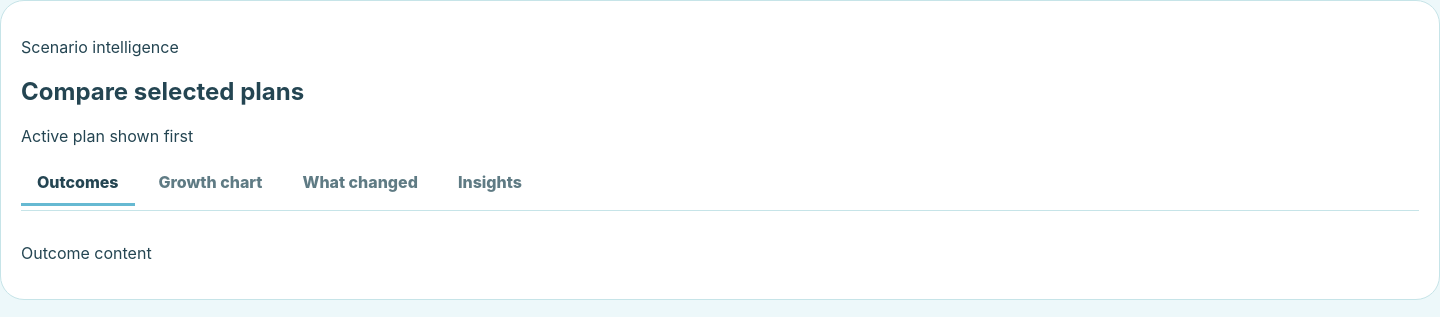
Test: ScenarioComparisonTabs › shows one comparison view at a time
The width and height of the screenshot is (1440, 317).
Expected: the text "Outcome content" is shown, top-left (21, 243), bottom-right (152, 263)
Expected: the text "Insights content" is not shown
Click the tab "Insights".
click(490, 184)  # box top-left (442, 162), bottom-right (538, 206)
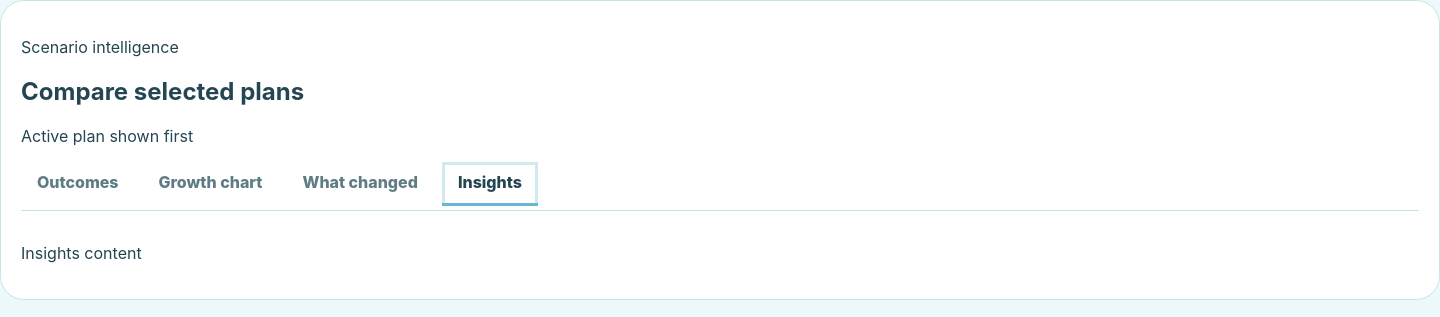
Result: the text "Outcome content" is gone
Result: the text "Insights content" is shown at top-left (21, 243), bottom-right (142, 263)
